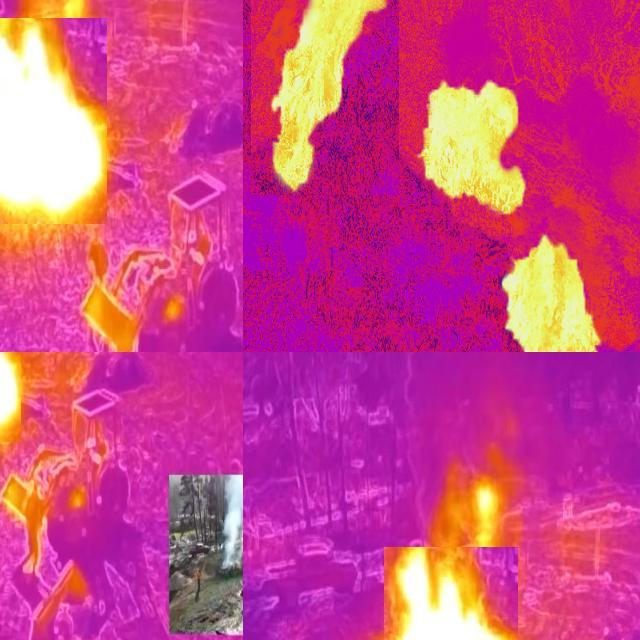fire: (269, 1, 397, 192), (1, 18, 107, 224), (415, 56, 530, 233), (500, 234, 612, 353), (384, 547, 518, 640)
